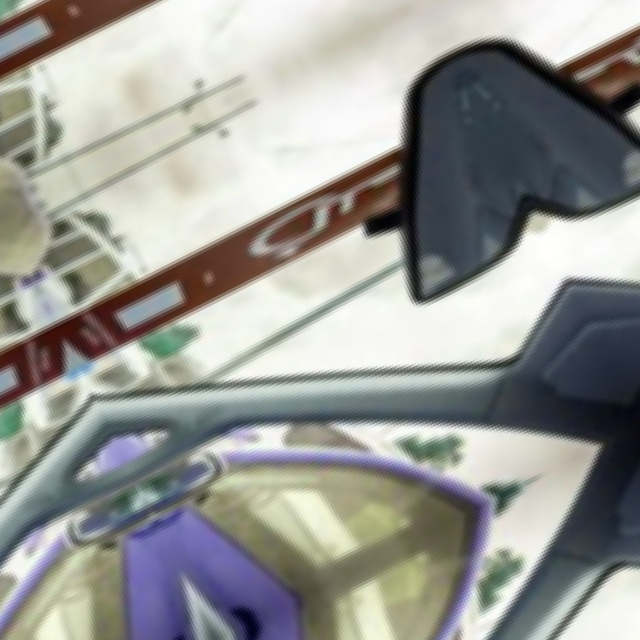ISA: (236, 150, 420, 272), (561, 0, 640, 108), (105, 0, 289, 14)
